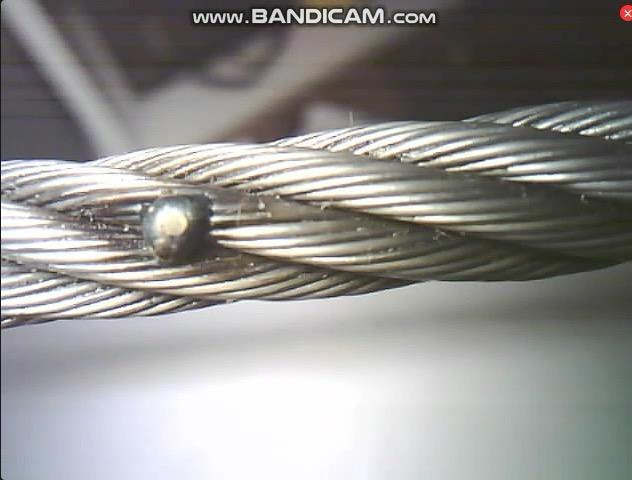thunderbolt: (117, 184, 238, 255)
